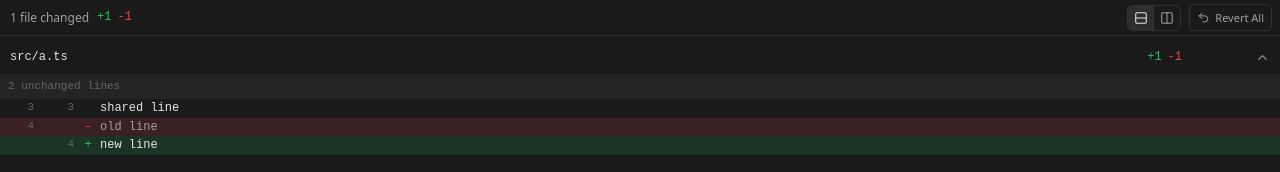
Scenario: ChangesTab diff stream › toggles a file section by clicking its summary row
Check: the text "old line" is shown, box [100,120,158,134]
Click the text "src/a.ts" at (39, 56), box [10,50,68,64]
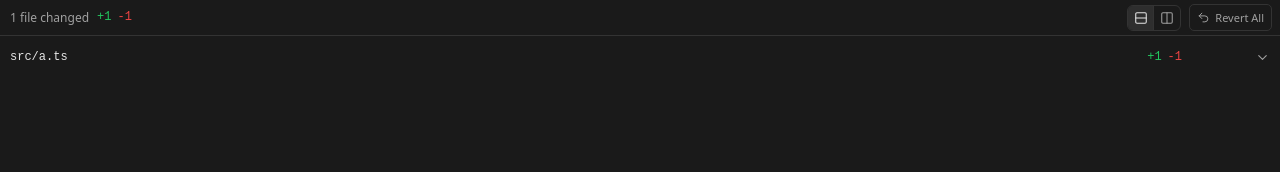
Check: the text "old line" is gone
